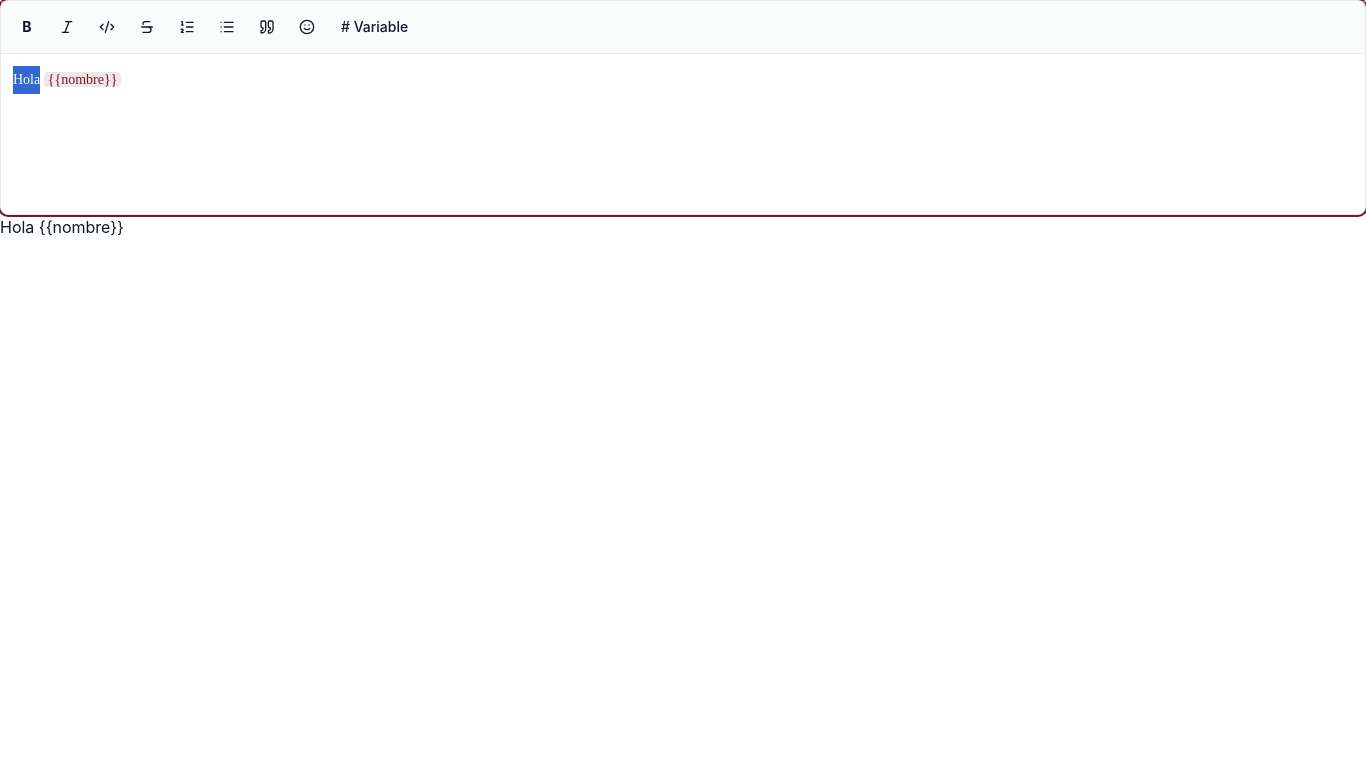
Test: emoji and toolbar › replaces selected text with an emoji while preserving adjacent variables
The width and height of the screenshot is (1366, 768).
Click the button named "Insertar emoji".
click(307, 27)  # box top-left (289, 9), bottom-right (325, 45)
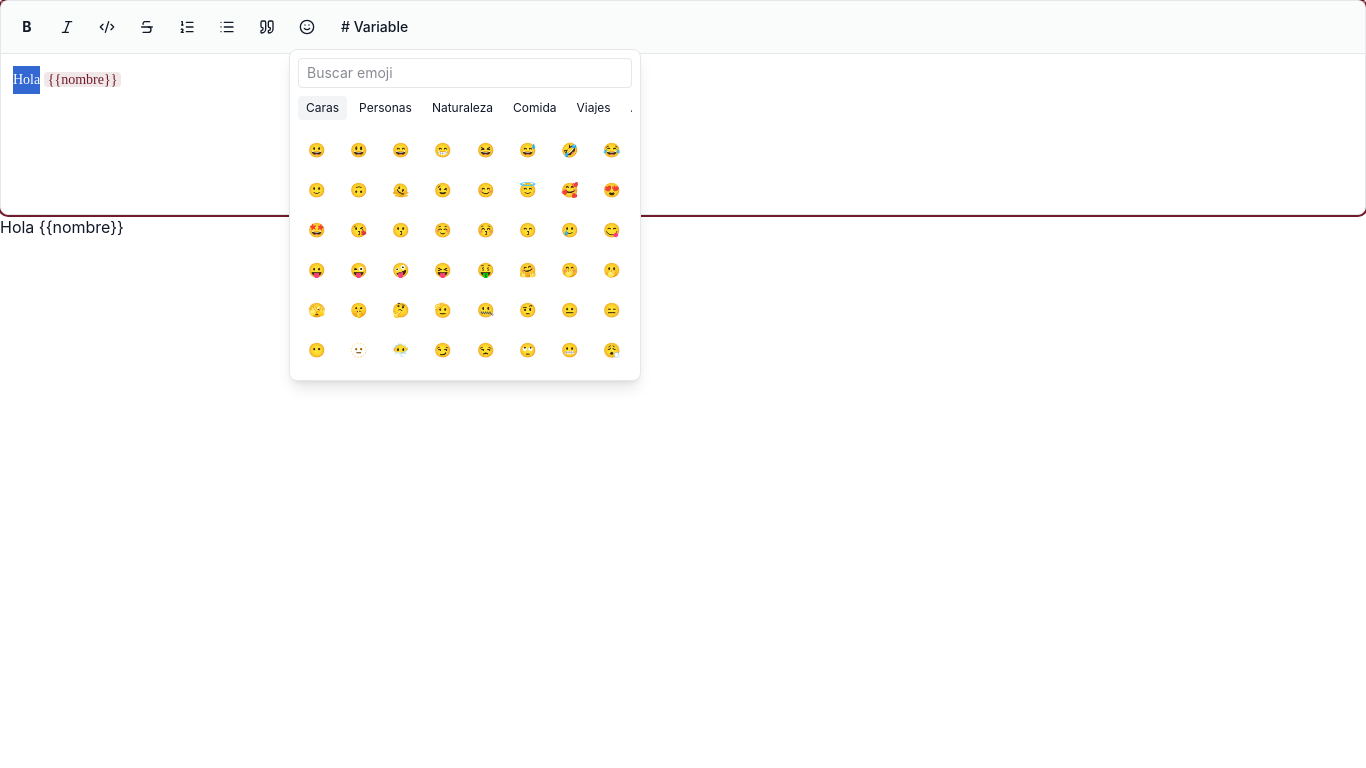
Click the button named "Insertar 😀".
click(316, 150)  # box top-left (298, 132), bottom-right (334, 168)
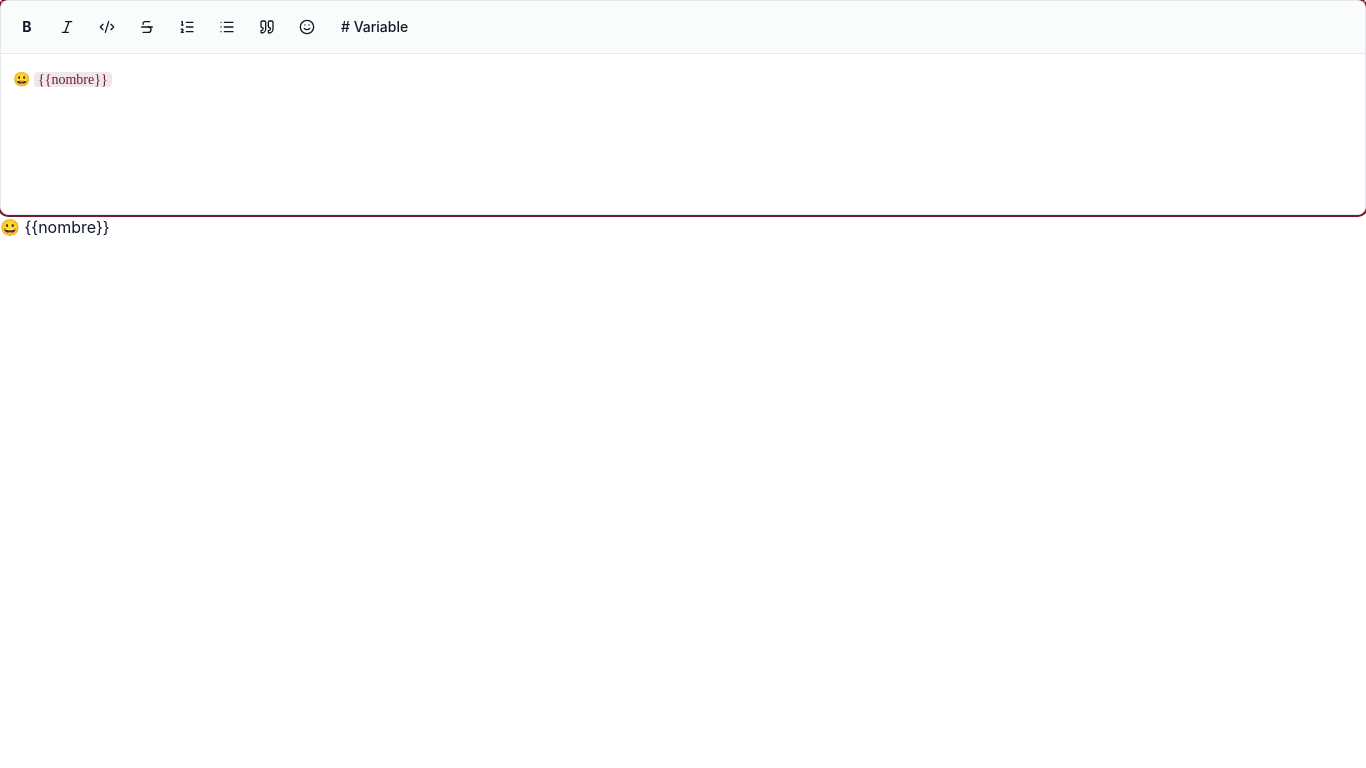
Expected: the text with test id "value" reads "😀 {{nombre}}", top-left (0, 217), bottom-right (110, 237)
